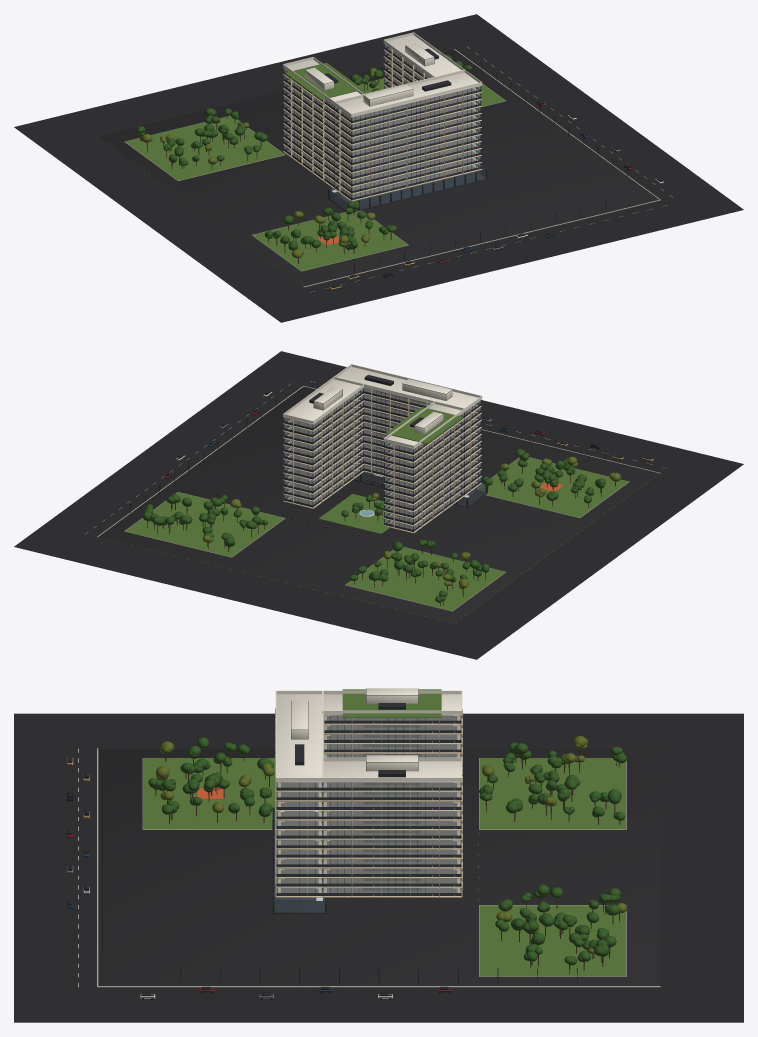
Rendered from courtyard-block.glb.
3 renders of one model, top to bottom at view 1: azimuth 30°, elevation 25°; view 2: azimuth 150°, elevation 25°; view 3: azimuth 270°, elevation 25°, orthographic. The views are drawn at different scales.
Visible parts, largest first — view 1: site, roof, podium, floor-11, floor-10, floor-9, floor-12, floor-8, floor-7, floor-6, floor-4, floor-2 (+3 smaller); view 2: site, roof, floor-11, floor-10, floor-12, floor-9, floor-8, floor-7, floor-5, floor-3, floor-4, floor-1 (+3 smaller); view 3: site, roof, floor-12, floor-11, floor-10, floor-9, floor-8, floor-7, floor-5, floor-6, floor-4, floor-2 (+3 smaller).
Part boxes in pixels (x1,y1,x2,y2): site: (14,14,743,322); roof: (283,32,482,180); podium: (328,166,487,212); floor-11: (283,51,481,131); floor-10: (283,58,481,138); floor-9: (283,65,481,145); floor-12: (283,44,481,124); floor-8: (283,72,481,152); floor-7: (283,79,481,159); floor-6: (283,86,481,166); floor-4: (283,124,481,180); floor-2: (283,139,481,194); site: (14,351,743,659); roof: (283,364,482,533); floor-11: (283,394,481,463); floor-10: (283,401,481,470); floor-12: (283,387,481,456); floor-9: (283,408,481,477); floor-8: (283,415,481,484); floor-7: (283,422,481,491); floor-5: (283,436,481,505); floor-3: (283,451,481,519); floor-4: (283,444,481,512); floor-1: (283,465,481,533); site: (14,713,743,1022); roof: (275,688,462,782); floor-12: (275,708,462,792); floor-11: (275,717,462,801); floor-10: (275,728,462,811); floor-9: (275,737,462,820); floor-8: (275,747,462,830); floor-7: (275,756,462,840); floor-5: (275,826,462,859); floor-6: (275,766,462,849); floor-4: (275,794,462,868); floor-2: (275,855,462,887).
Size of the model in its own units: 221 by 46.82 by 221.
